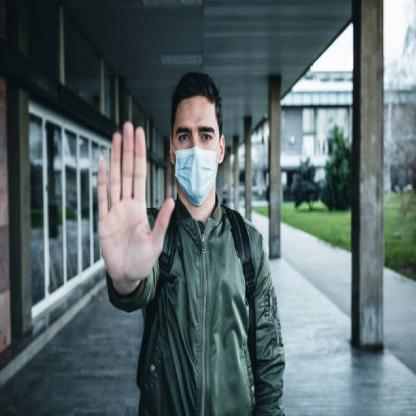stop: (95, 117, 178, 290)
